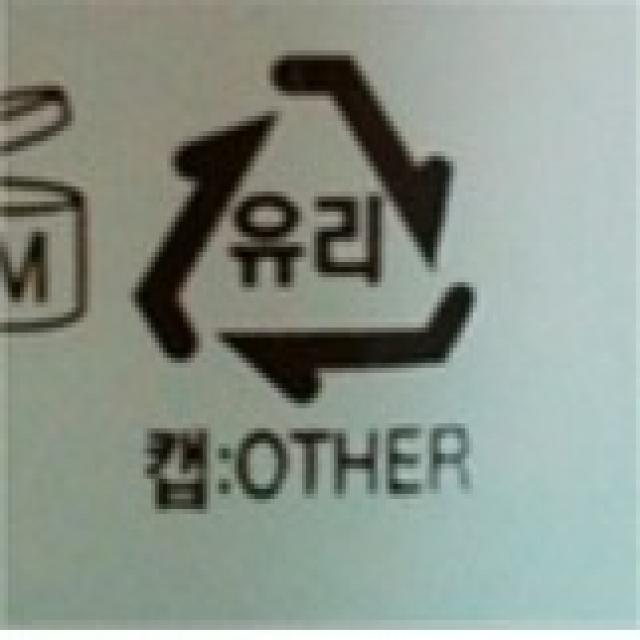Glass: (125, 40, 483, 408)
